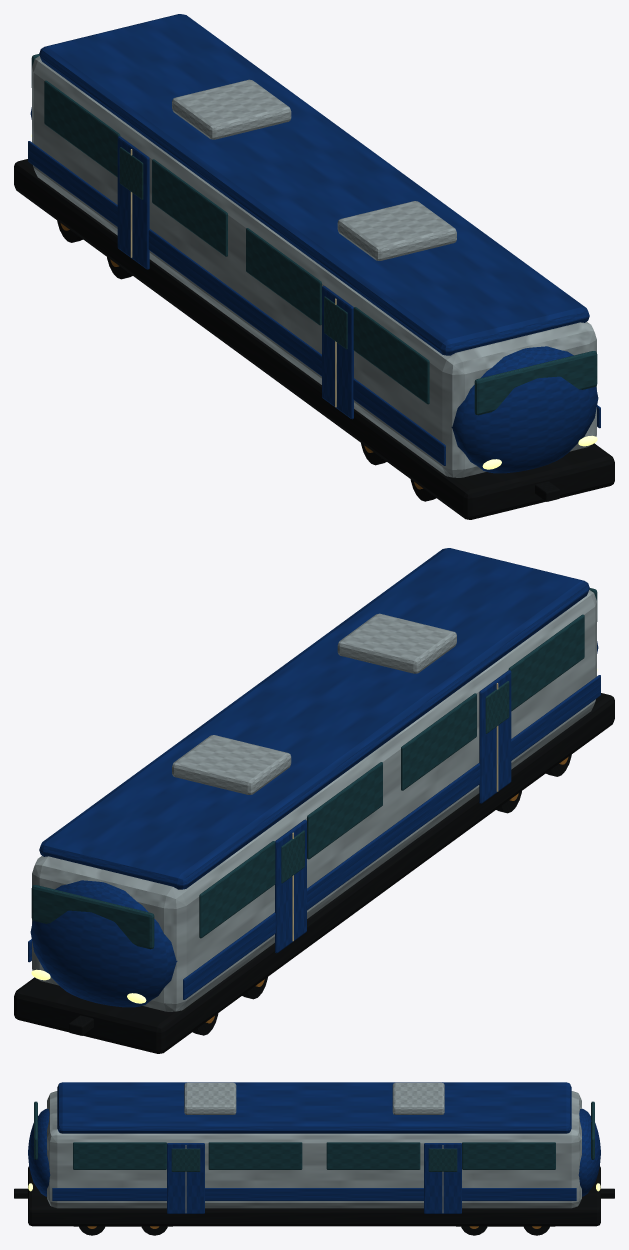
Rendered from train-commuter-v1-DgxcTaeh.glb.
3 renders of one model, top to bottom at view 1: azimuth 30°, elevation 25°; view 2: azimuth 150°, elevation 25°; view 3: azimuth 270°, elevation 25°, orthographic. The views are drawn at different scales.
Parts seen in each view (by area): view 1: Low aerodynamic roof, Modern rounded passenger body, Coach underframe, Cab windscreen; view 2: Low aerodynamic roof, Modern rounded passenger body, Coach underframe, Cab windscreen; view 3: Low aerodynamic roof, Modern rounded passenger body, Cab windscreen, Coach underframe.
Boxes of the visible parts, left/top/right/bottom form: Low aerodynamic roof: left=28, top=14, right=600, bottom=473; Modern rounded passenger body: left=32, top=56, right=596, bottom=477; Coach underframe: left=14, top=159, right=614, bottom=519; Cab windscreen: left=31, top=54, right=597, bottom=415; Low aerodynamic roof: left=28, top=548, right=600, bottom=1007; Modern rounded passenger body: left=32, top=590, right=596, bottom=1011; Coach underframe: left=14, top=693, right=614, bottom=1053; Cab windscreen: left=31, top=588, right=597, bottom=949; Low aerodynamic roof: left=28, top=1082, right=600, bottom=1213; Modern rounded passenger body: left=47, top=1082, right=581, bottom=1208; Cab windscreen: left=34, top=1101, right=594, bottom=1171; Coach underframe: left=14, top=1166, right=614, bottom=1235.
Size of the model in its own units: 3.41 by 3.81 by 17.3.
Materials: 7 (7 with a texture image).
